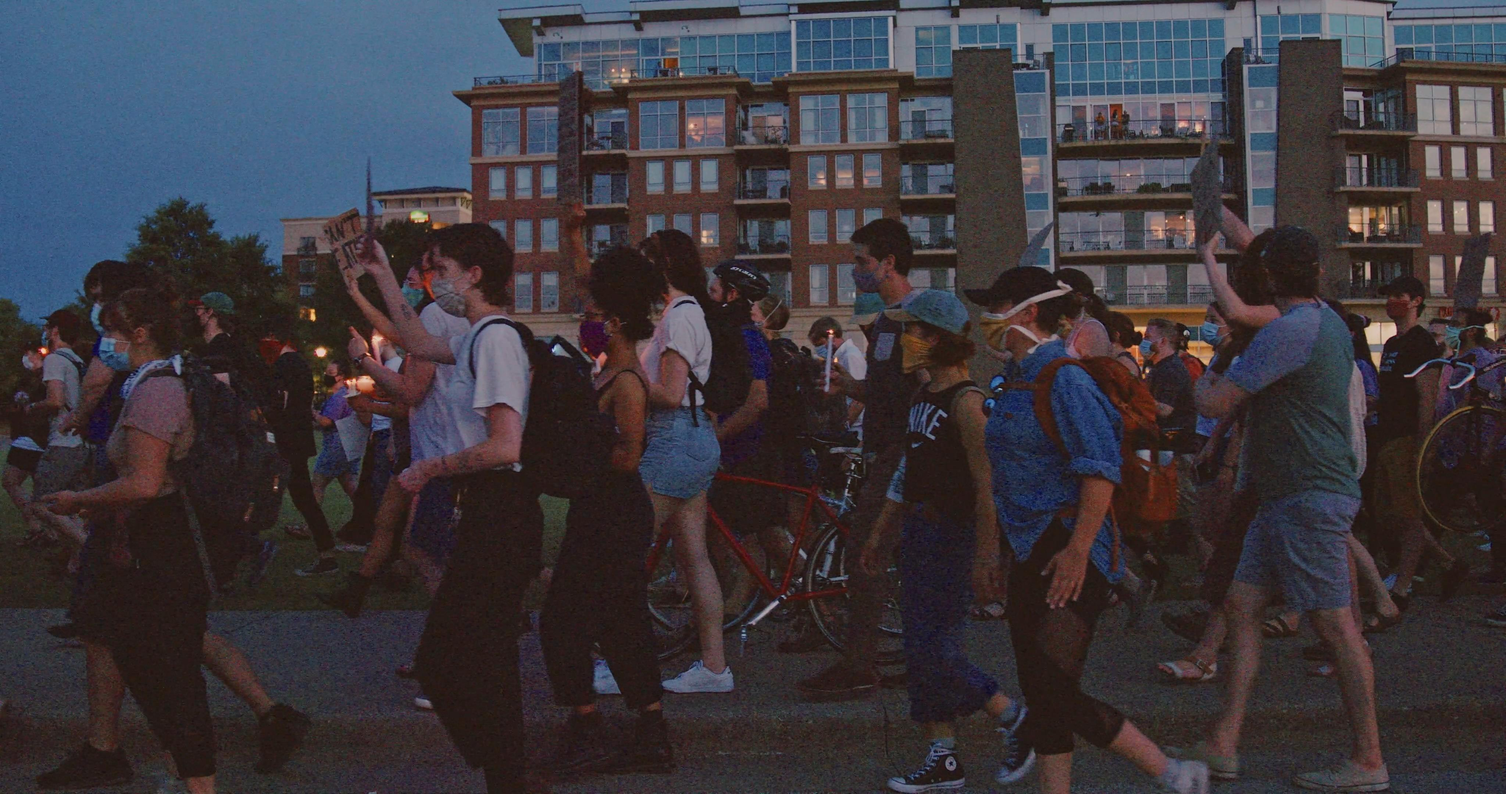helmet: (709, 260, 772, 320), (808, 316, 844, 360)
no-helmet: (961, 264, 1082, 354), (427, 222, 515, 319), (883, 289, 978, 376), (96, 287, 178, 372), (577, 283, 656, 362), (635, 228, 709, 307), (848, 218, 913, 295), (1258, 227, 1322, 300), (1053, 268, 1110, 326), (1377, 274, 1427, 323), (187, 292, 236, 339), (1445, 307, 1494, 350), (38, 309, 82, 353), (1200, 300, 1237, 349), (1139, 318, 1180, 362), (1101, 312, 1143, 348), (750, 295, 791, 331), (401, 259, 426, 309), (324, 358, 351, 389)
